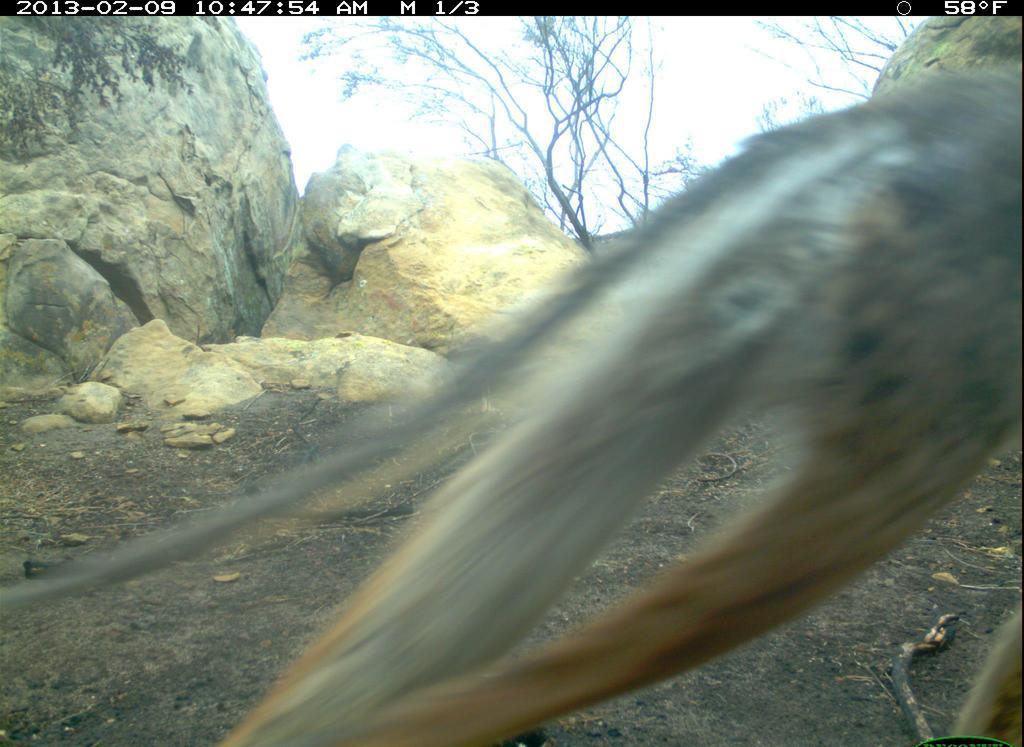coyote: (214, 65, 1024, 744)
